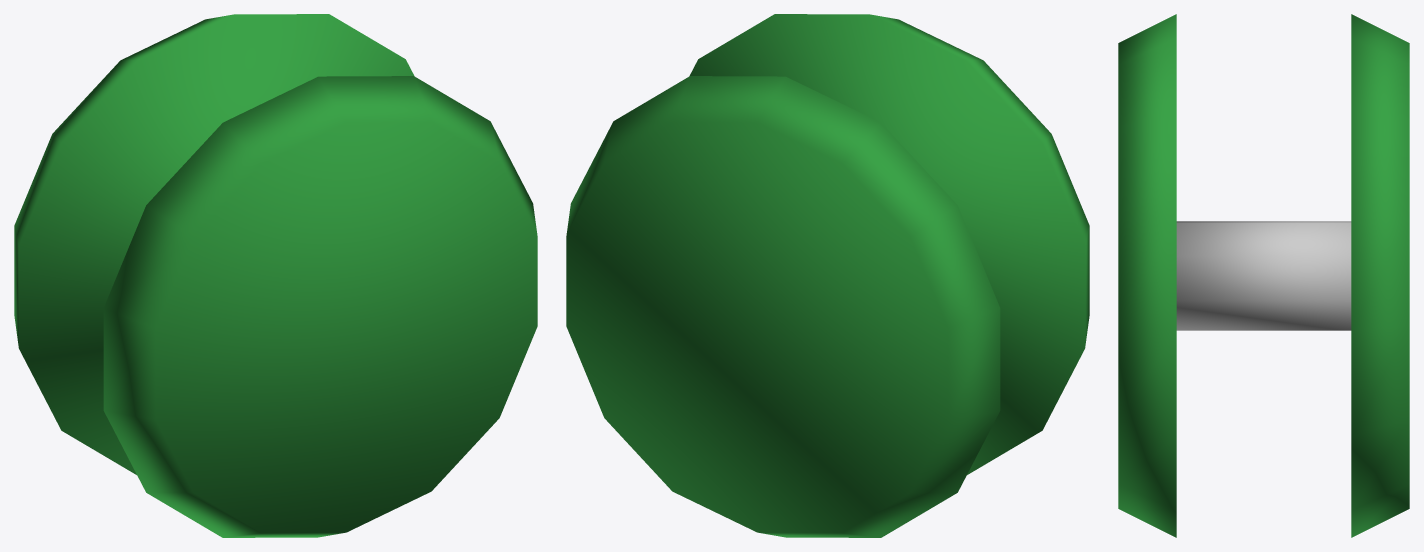
File: amazon_head.glb
The picture shows the model from 3 angles, left to right: view 1: azimuth 30°, elevation 25°; view 2: azimuth 150°, elevation 25°; view 3: azimuth 270°, elevation 25°; orthographic projection. The views are drawn at different scales.
Parts seen in each view (by area): view 1: amazon_head_v0; view 2: amazon_head_v0; view 3: amazon_head_v0.
Part boxes in pixels (x1,y1,x2,y2): amazon_head_v0: (14, 14, 537, 537); amazon_head_v0: (566, 14, 1089, 537); amazon_head_v0: (1118, 14, 1409, 537).
Bounding box in the file's own units: 0.1755 × 0.18 × 0.1.
